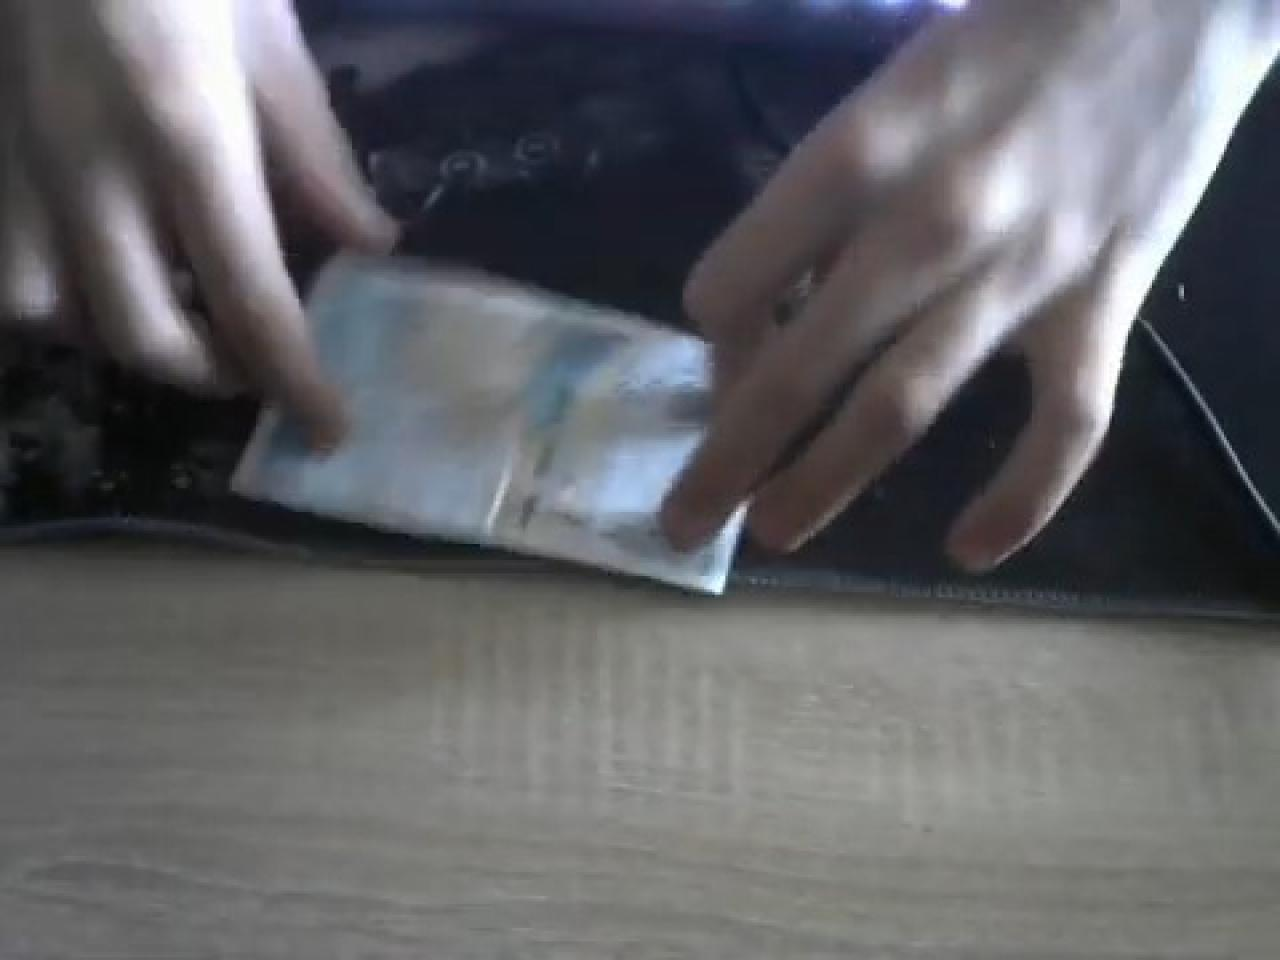20leva: (227, 253, 742, 597)
